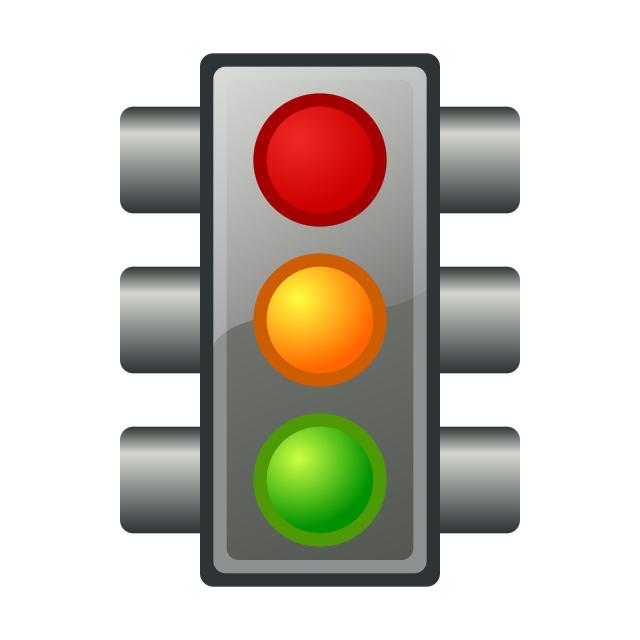green-lights: (252, 407, 398, 552)
red-lights: (255, 92, 389, 238)
yellow-lights: (246, 255, 382, 383)
